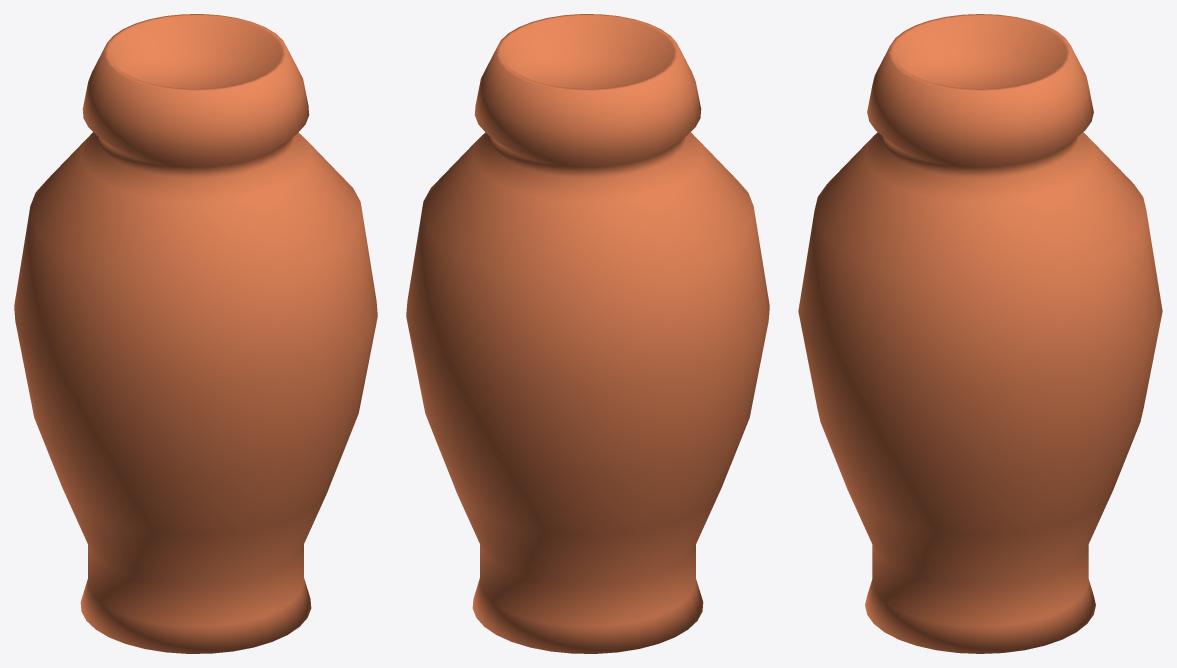
The model's file is enviro pottery.fbx.
The picture shows the model from 3 angles, left to right: view 1: azimuth 30°, elevation 25°; view 2: azimuth 150°, elevation 25°; view 3: azimuth 270°, elevation 25°; orthographic projection.
Visible parts, largest first — view 1: Circle; view 2: Circle; view 3: Circle.
Part boxes in pixels (x1,y1,x2,y2): Circle: (14,14,377,653); Circle: (406,14,769,653); Circle: (798,14,1162,653).
Size of the model in its own units: 221 by 369 by 221.
